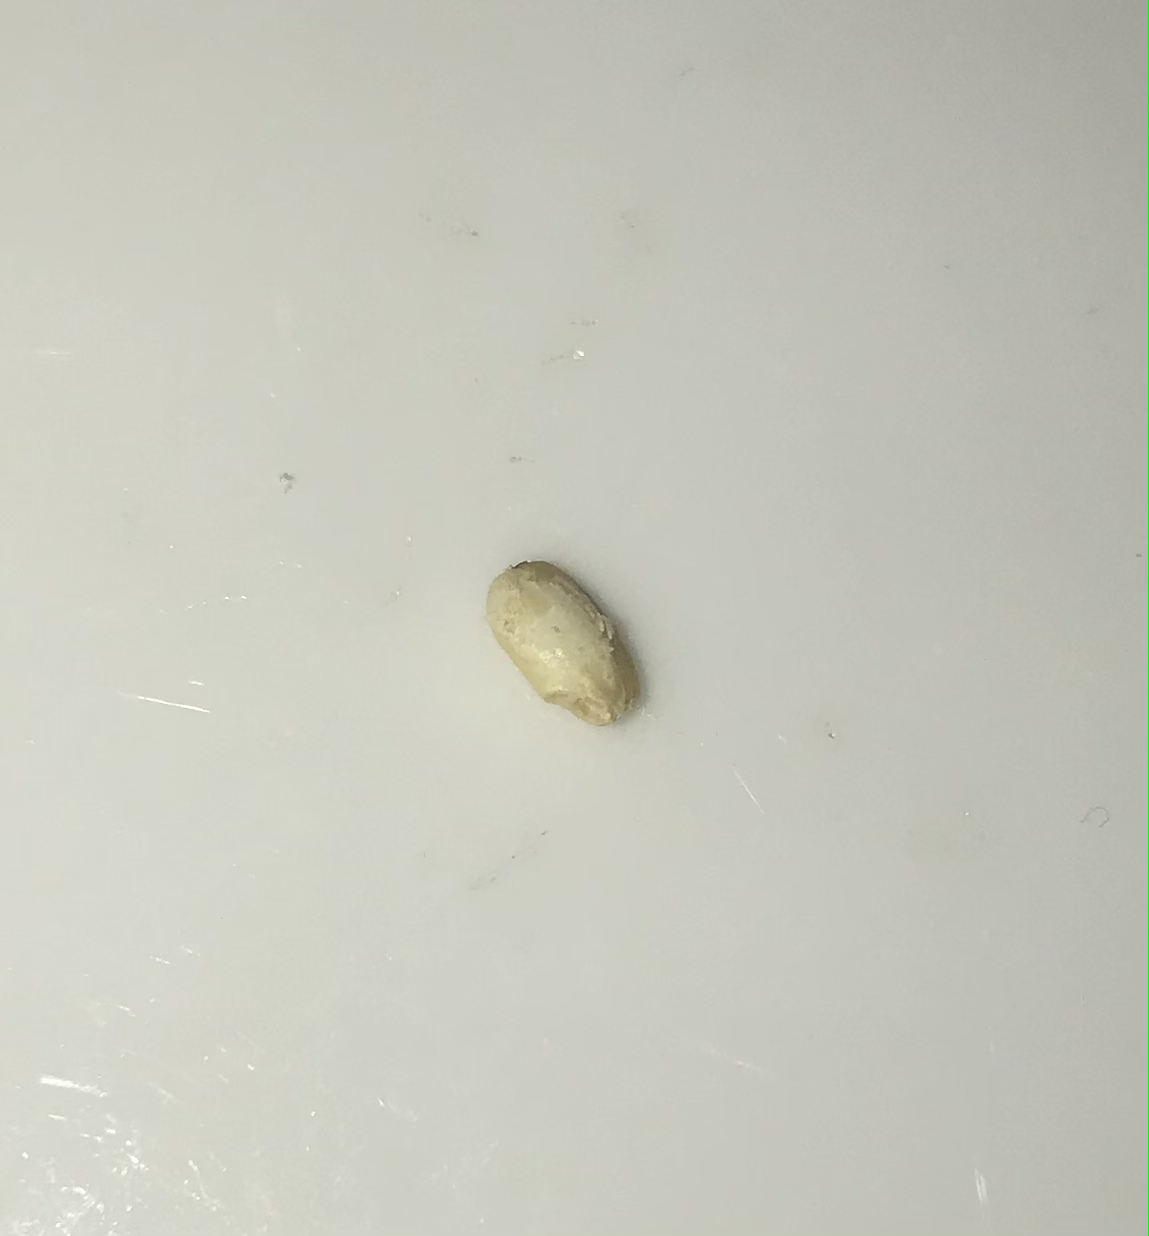Gao Lut Bac: (465, 544, 648, 739)
